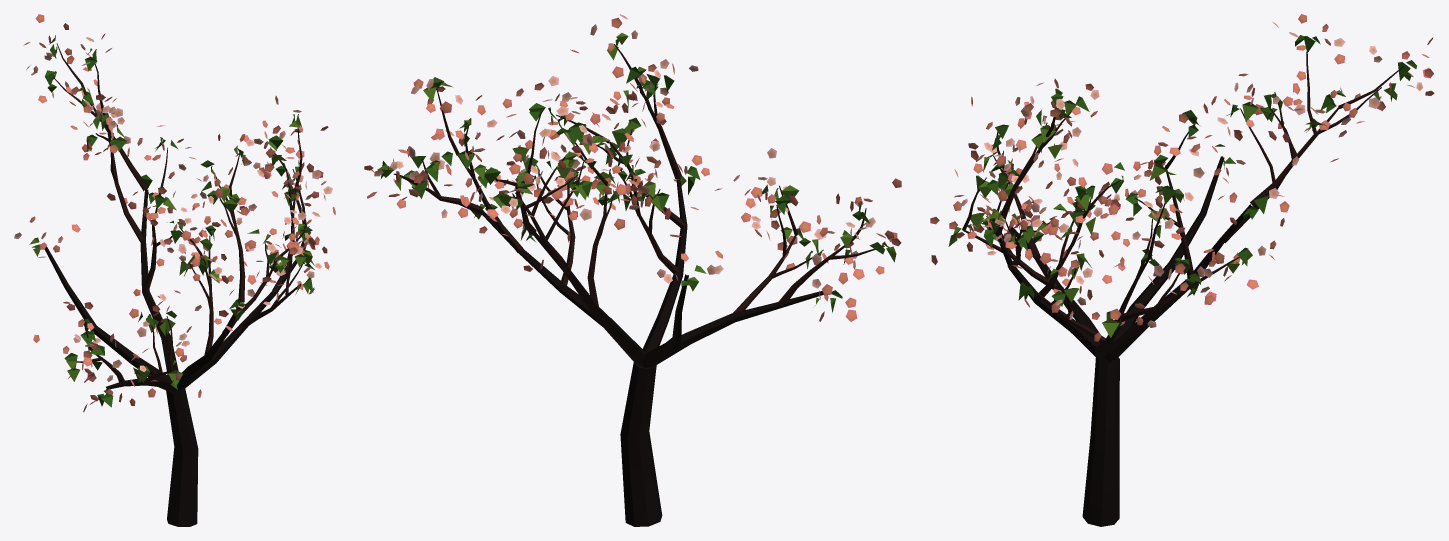
The model's file is hz-peach-tree.glb.
3 views of the same model, side by side, from view 1: azimuth 30°, elevation 25°; view 2: azimuth 150°, elevation 25°; view 3: azimuth 270°, elevation 25° (orthographic). The views are drawn at different scales.
Visible parts, largest first — view 1: branches__wood, blossoms__petal, leaves__plant; view 2: branches__wood, blossoms__petal, leaves__plant; view 3: branches__wood, blossoms__petal, leaves__plant.
Part boxes in pixels (left/top/right/bottom): branches__wood: left=44, top=43, right=309, bottom=526; blossoms__petal: left=14, top=14, right=335, bottom=412; leaves__plant: left=29, top=35, right=314, bottom=407; branches__wood: left=393, top=44, right=884, bottom=526; blossoms__petal: left=364, top=14, right=901, bottom=321; leaves__plant: left=377, top=33, right=896, bottom=312; branches__wood: left=962, top=52, right=1404, bottom=526; blossoms__petal: left=930, top=14, right=1434, bottom=341; leaves__plant: left=948, top=35, right=1416, bottom=337.
Bounding box in the file's own units: 3.65 × 4.12 × 3.78.
